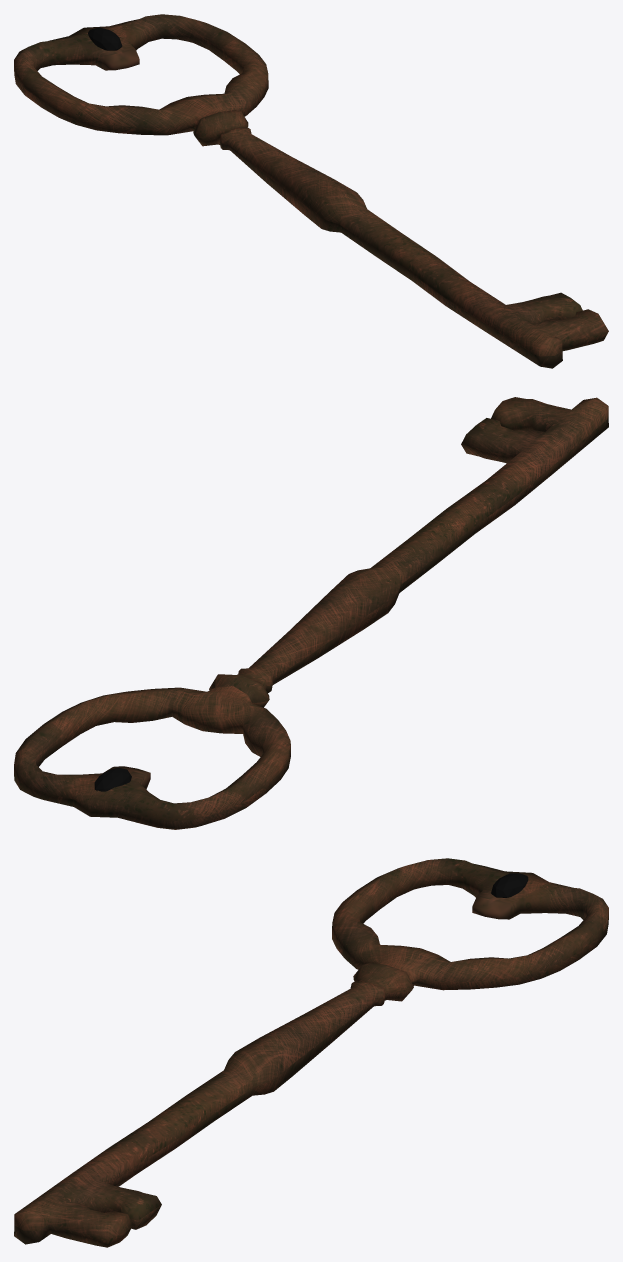
File: key.obj
3 views of the same model, one above another, from view 1: azimuth 30°, elevation 25°; view 2: azimuth 150°, elevation 25°; view 3: azimuth 330°, elevation 25° (orthographic). The views are drawn at different scales.
Visible parts, largest first — view 1: Key_Key_0; view 2: Key_Key_0; view 3: Key_Key_0.
Boxes of the visible parts, box(x1,y1,x2,y2) form: Key_Key_0: box(14, 14, 608, 368); Key_Key_0: box(14, 397, 608, 829); Key_Key_0: box(14, 858, 608, 1247).
Size of the model in its own units: 0.7629 by 0.1695 by 3.04.
